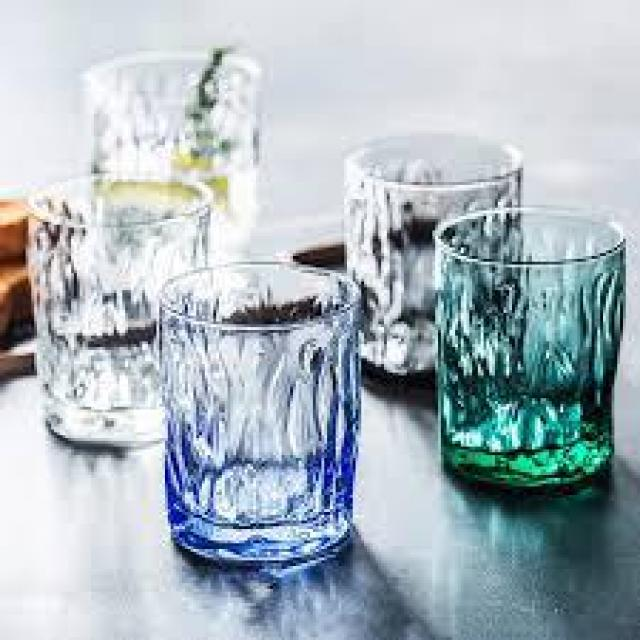non-organic waste: (153, 257, 370, 576), (427, 205, 637, 498)
